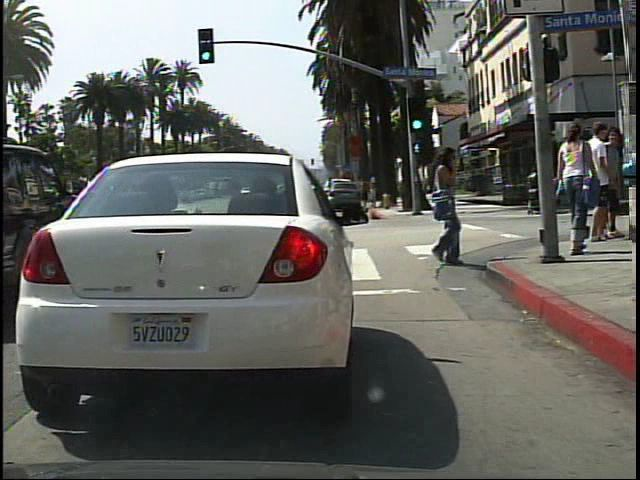person: (413, 141, 473, 270), (553, 121, 603, 262)
